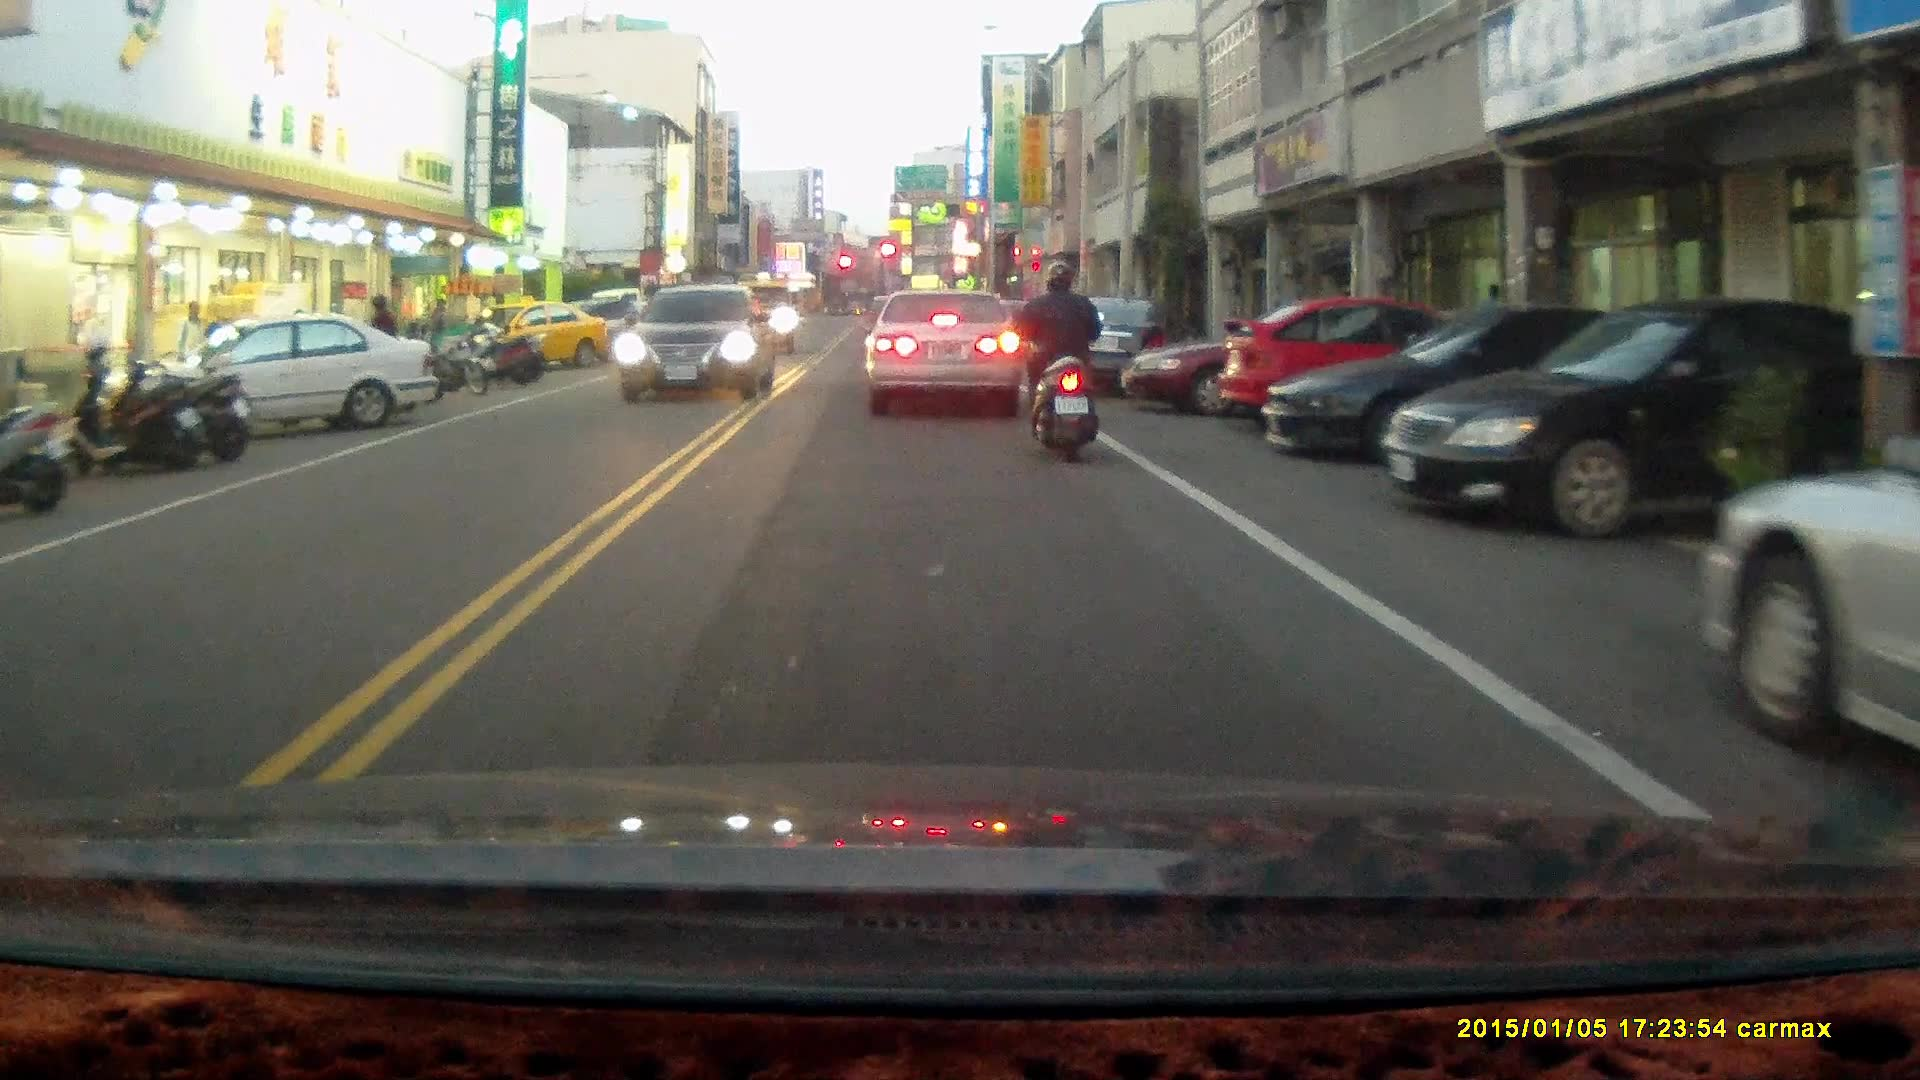pedestrian: (363, 292, 399, 389), (174, 298, 209, 395)
rider: (1009, 258, 1102, 466)
vehicle: (1380, 297, 1870, 541), (1691, 342, 1920, 806), (1266, 309, 1676, 475), (110, 310, 434, 445), (1213, 297, 1495, 438), (1121, 305, 1444, 421), (866, 290, 1028, 424), (616, 282, 774, 407), (1038, 295, 1175, 397), (493, 306, 616, 381)
